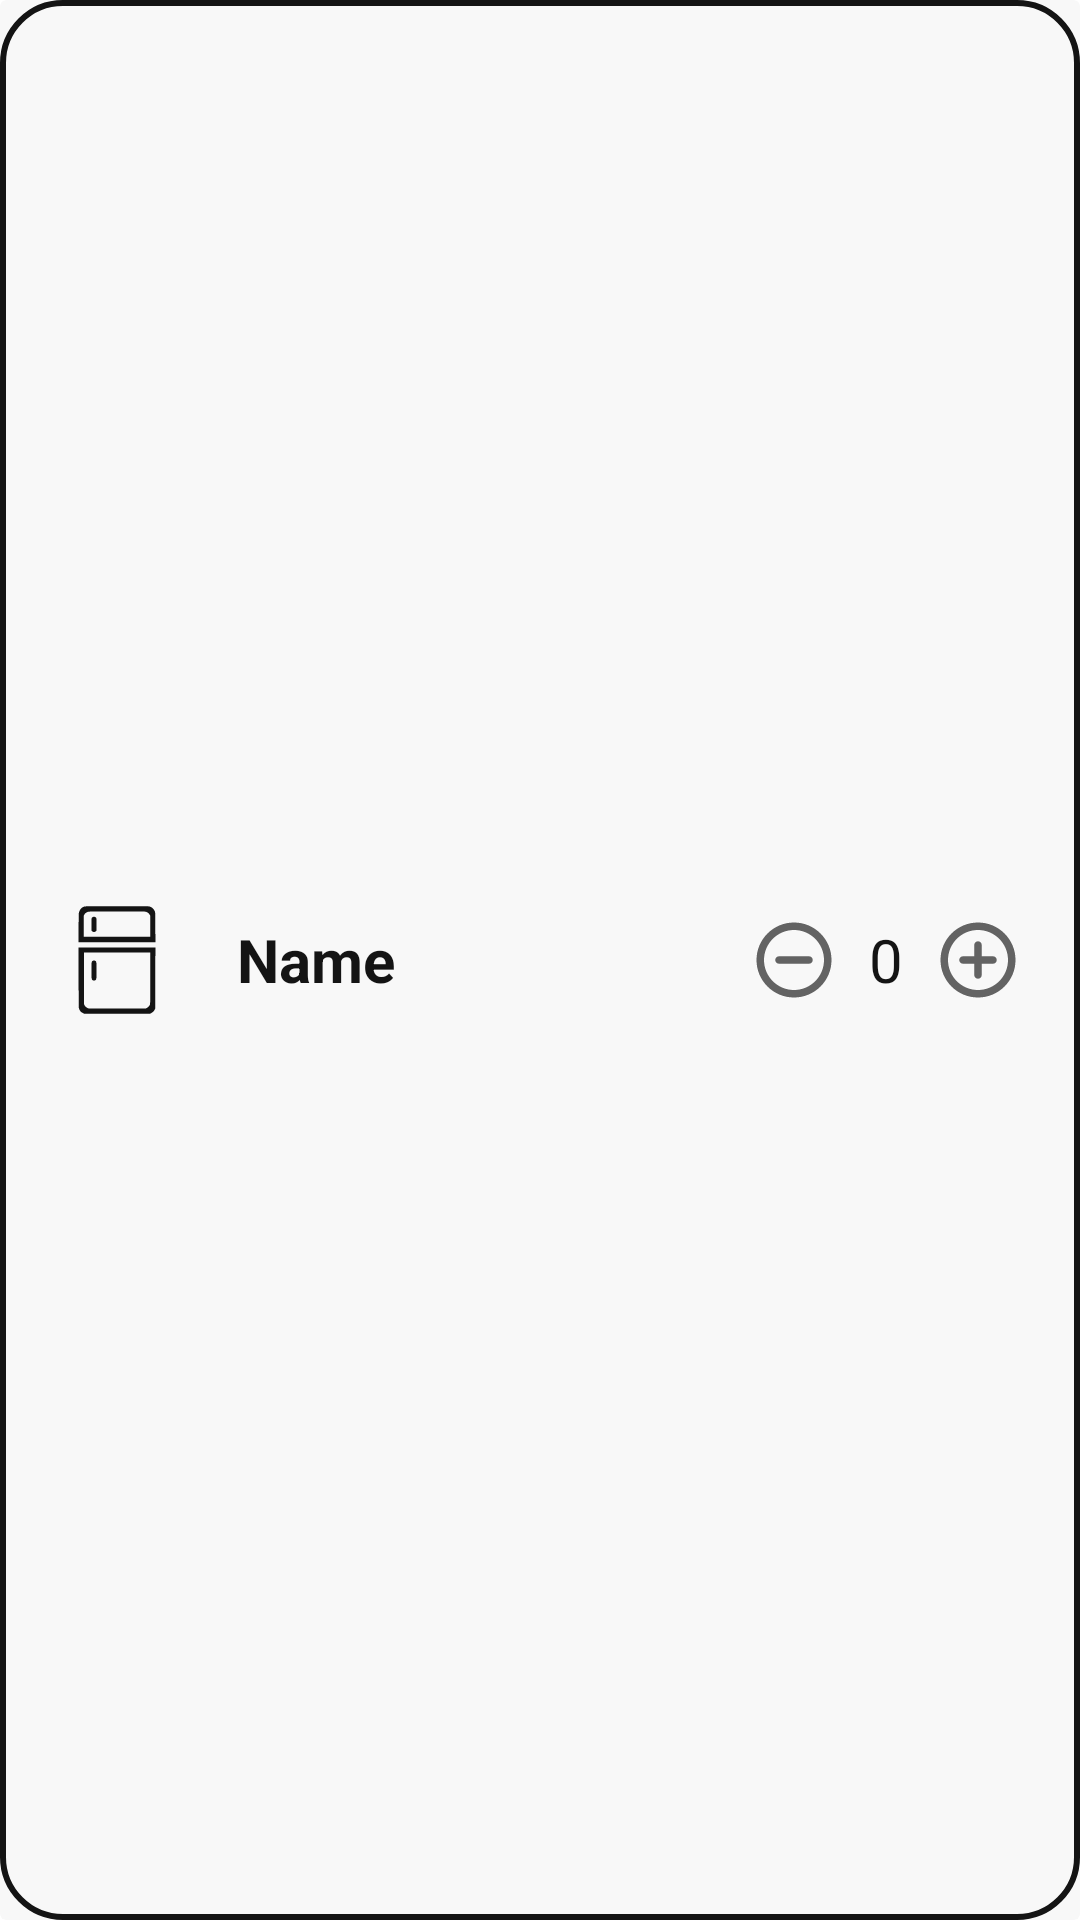

Icons on this 1080px×1920px Android screen, each with its box as BBox(x1, y1, x2, y2):
add product: BBox(940, 922, 1016, 998)
fridge: BBox(78, 906, 156, 1014)
remove product: BBox(756, 922, 832, 998)
